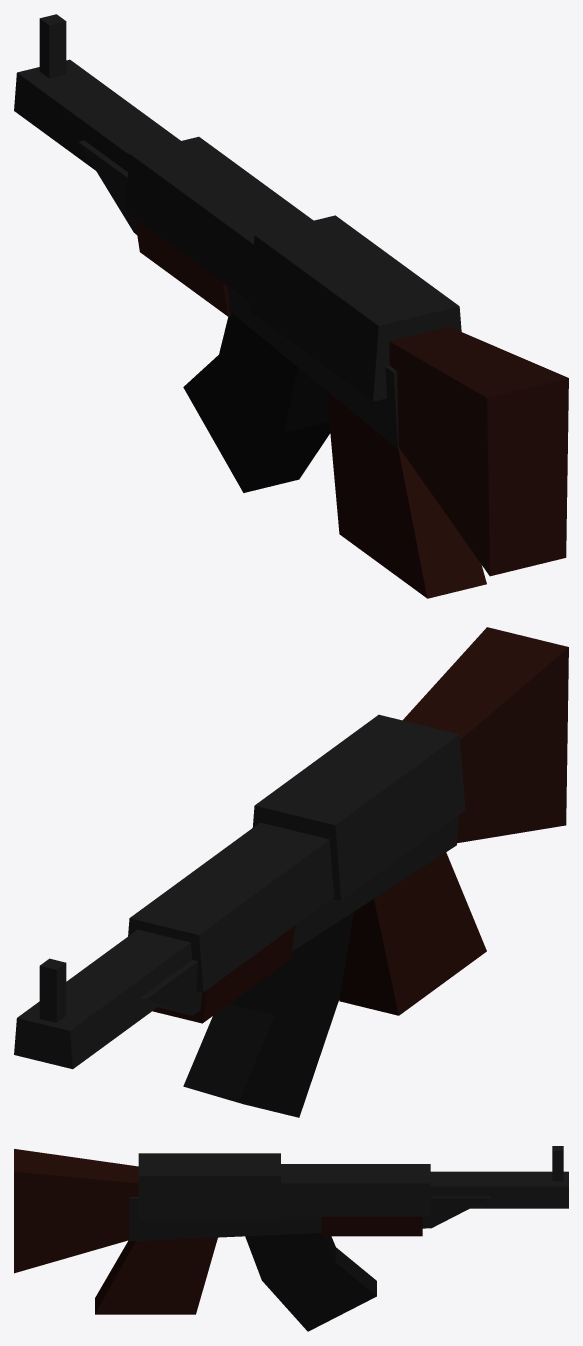
The picture shows the model from 3 angles, top to bottom: view 1: azimuth 30°, elevation 25°; view 2: azimuth 150°, elevation 25°; view 3: azimuth 270°, elevation 25°; orthographic projection. The views are drawn at different scales.
Visible parts, largest first — view 1: Cube, Куб.004, Cube.002, Куб.005, Куб.003; view 2: Cube, Куб.004, Куб.005, Cube.002, Куб.003; view 3: Cube, Куб.004, Куб.005, Cube.002, Куб.003.
Part boxes in pixels (x1=…): Cube: x1=14, y1=14, x2=461, y2=448; Куб.004: x1=389, y1=326, x2=568, y2=576; Cube.002: x1=326, y1=391, x2=486, y2=598; Куб.005: x1=183, y1=313, x2=330, y2=492; Куб.003: x1=134, y1=218, x2=231, y2=316; Cube: x1=14, y1=714, x2=465, y2=1069; Куб.004: x1=402, y1=627, x2=568, y2=843; Куб.005: x1=183, y1=912, x2=353, y2=1117; Cube.002: x1=339, y1=852, x2=486, y2=1015; Куб.003: x1=152, y1=925, x2=295, y2=1023; Cube: x1=129, y1=1146, x2=568, y2=1241; Куб.004: x1=14, y1=1149, x2=138, y2=1273; Куб.005: x1=245, y1=1233, x2=376, y2=1331; Cube.002: x1=95, y1=1237, x2=217, y2=1314; Куб.003: x1=321, y1=1216, x2=422, y2=1236.
Size of the model in its own units: 1.21 by 3.84 by 11.
